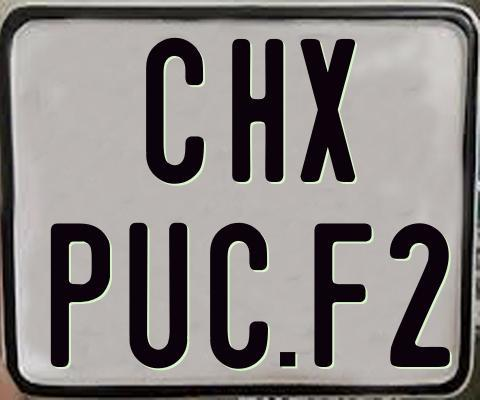2: (389, 221, 455, 370)
C: (145, 36, 209, 187), (208, 220, 269, 366)
F: (311, 221, 369, 365)
H: (230, 36, 287, 181)
P: (50, 221, 109, 369)
U: (128, 223, 189, 370)
X: (300, 38, 358, 182)
